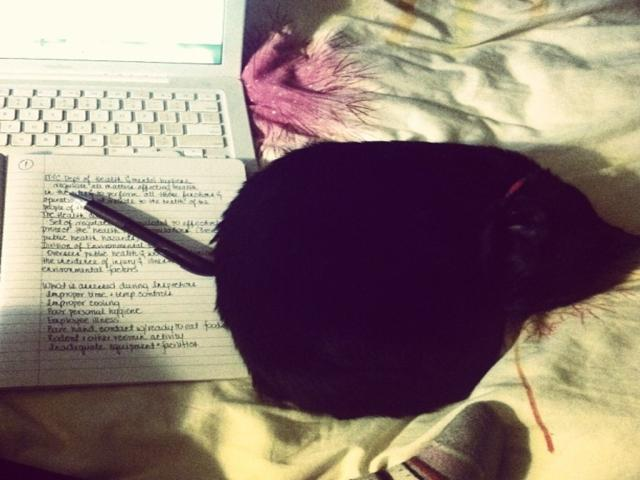Cat: (201, 138, 639, 418)
